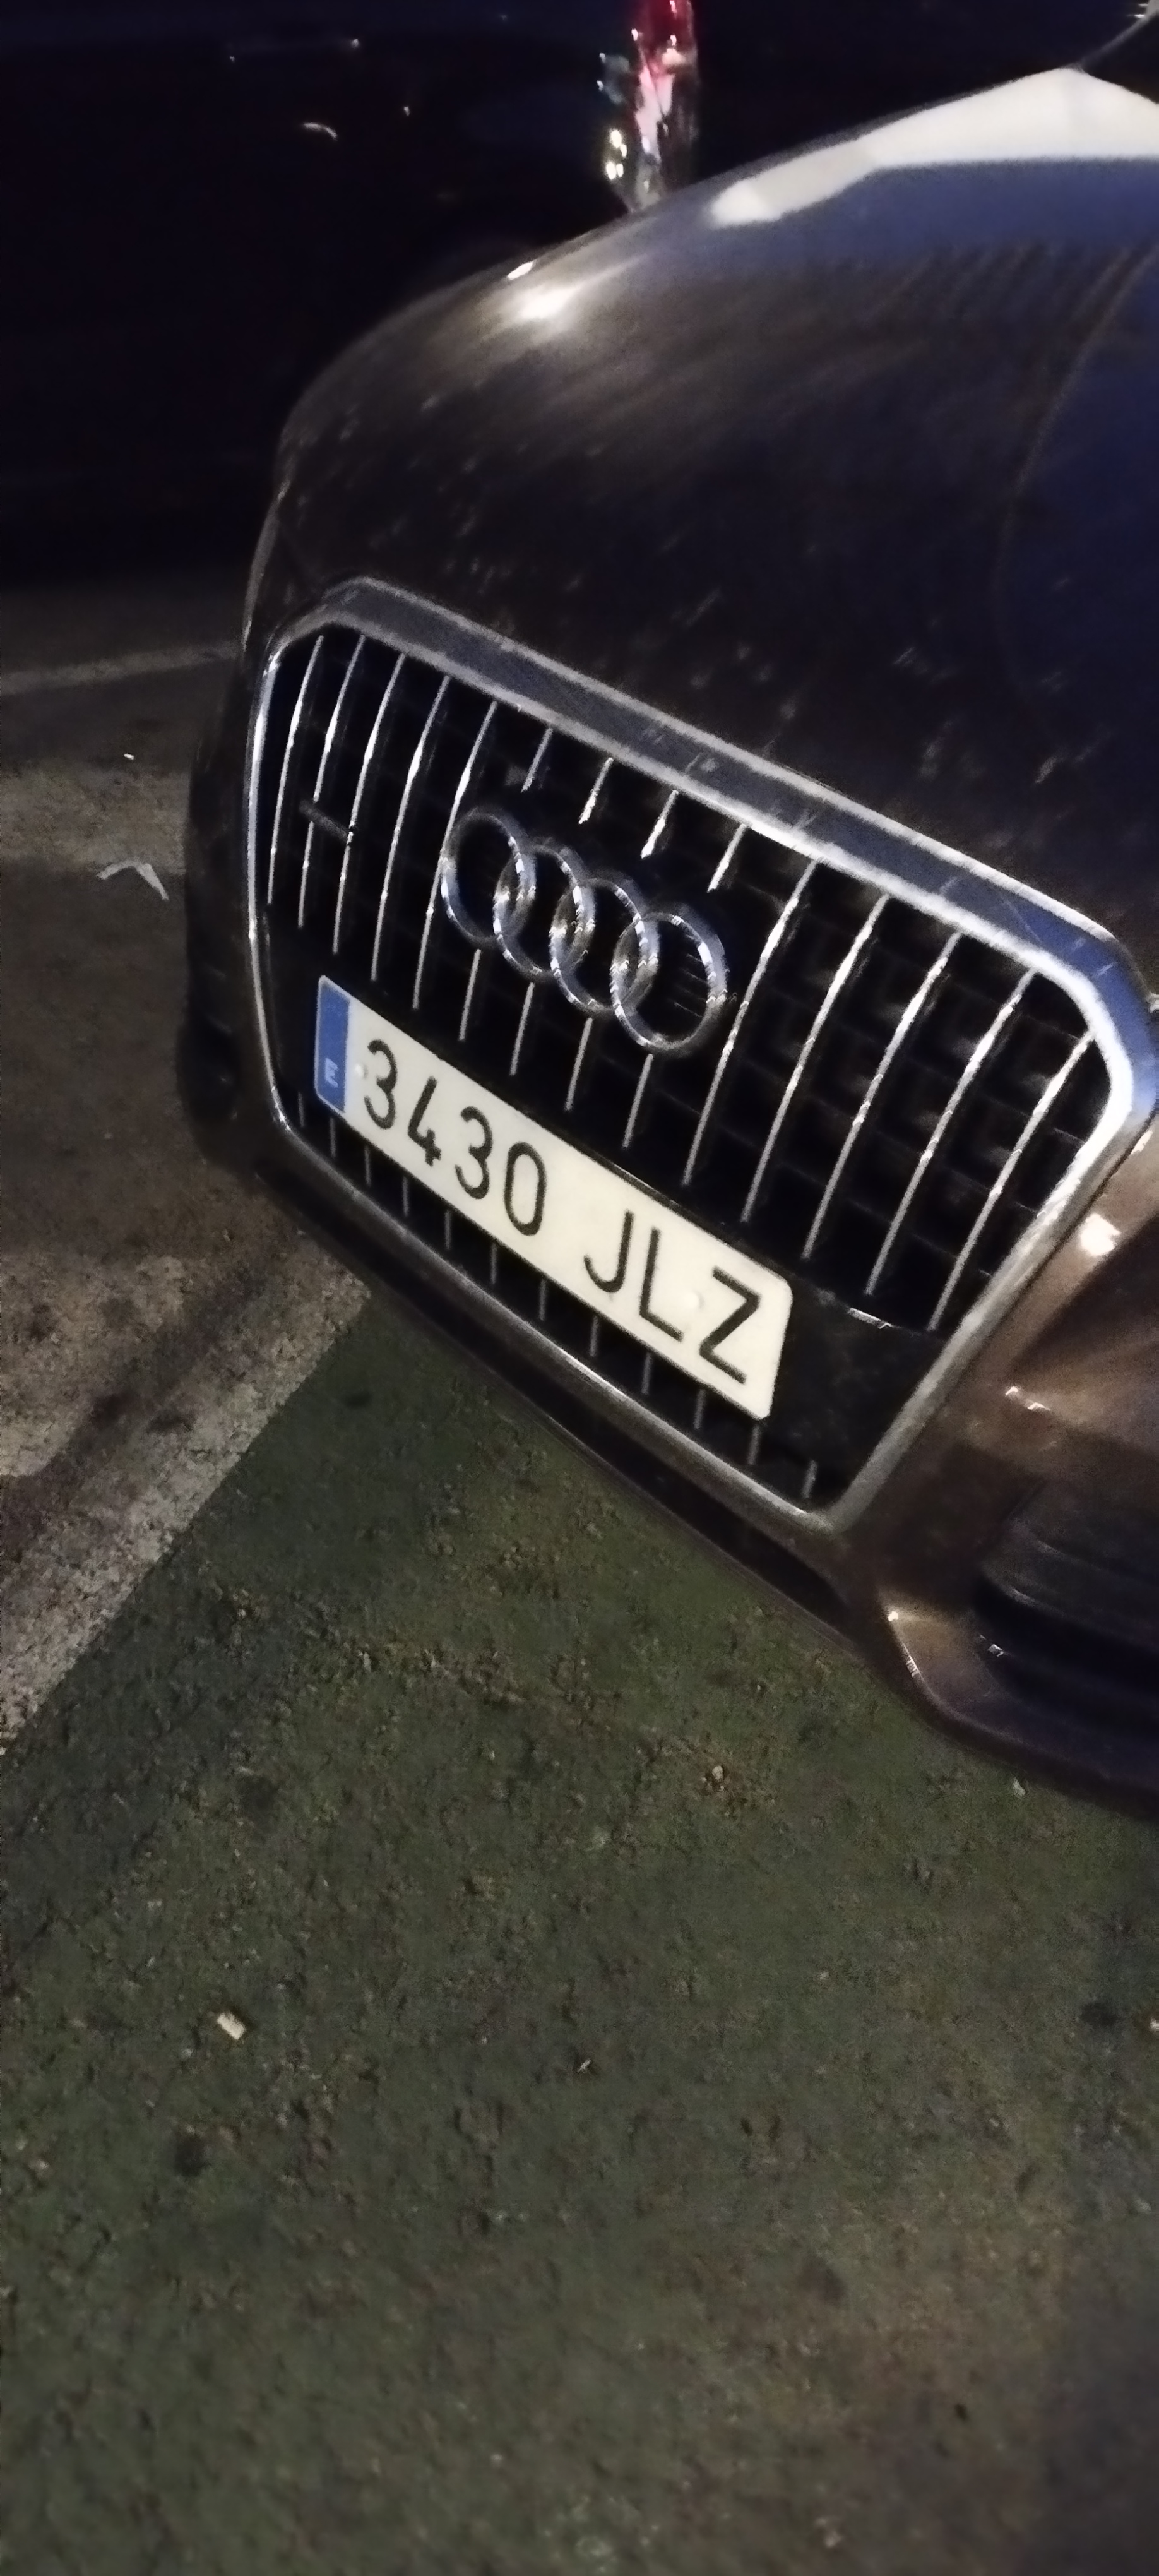Plate: (335, 976, 937, 1107)
